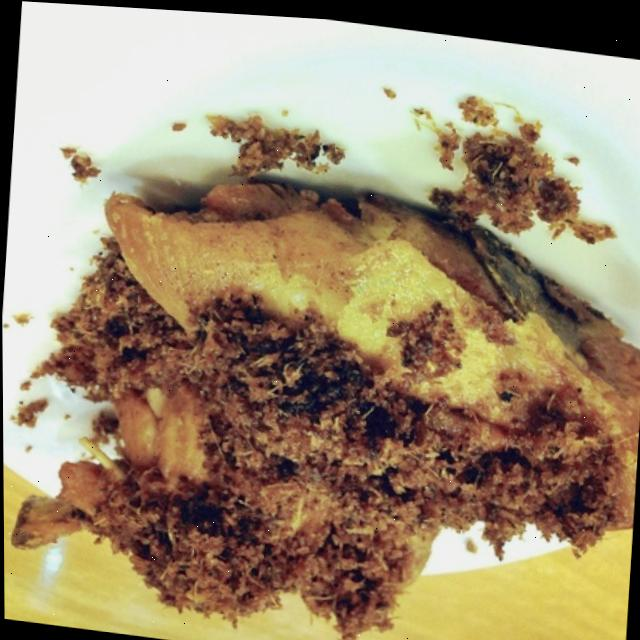鸡肉料理 含炸鸡: (0, 85, 640, 640)
